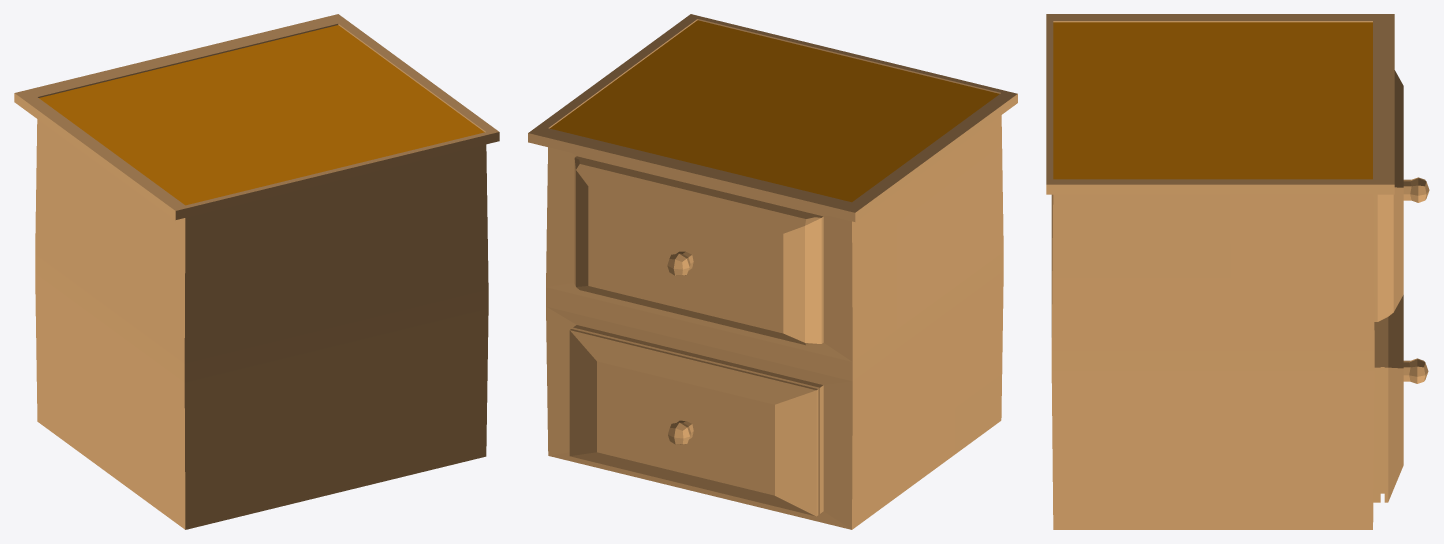
Rendered from Nightstand 2.fbx.
The picture shows the model from 3 angles, left to right: view 1: azimuth 30°, elevation 25°; view 2: azimuth 150°, elevation 25°; view 3: azimuth 270°, elevation 25°; orthographic projection. The views are drawn at different scales.
Parts seen in each view (by area): view 1: Node 2; view 2: Node 2, Node 0, Node 1; view 3: Node 2, Node 0, Node 1.
Boxes of the visible parts, x1,y1,x2,y2 form: Node 2: (14, 14, 499, 529); Node 2: (528, 14, 1017, 529); Node 0: (569, 325, 823, 516); Node 1: (574, 156, 823, 345); Node 2: (1046, 14, 1394, 529); Node 0: (1373, 295, 1428, 502); Node 1: (1373, 70, 1429, 321).
Size of the model in its own units: 1.09 by 1.04 by 1.03.
